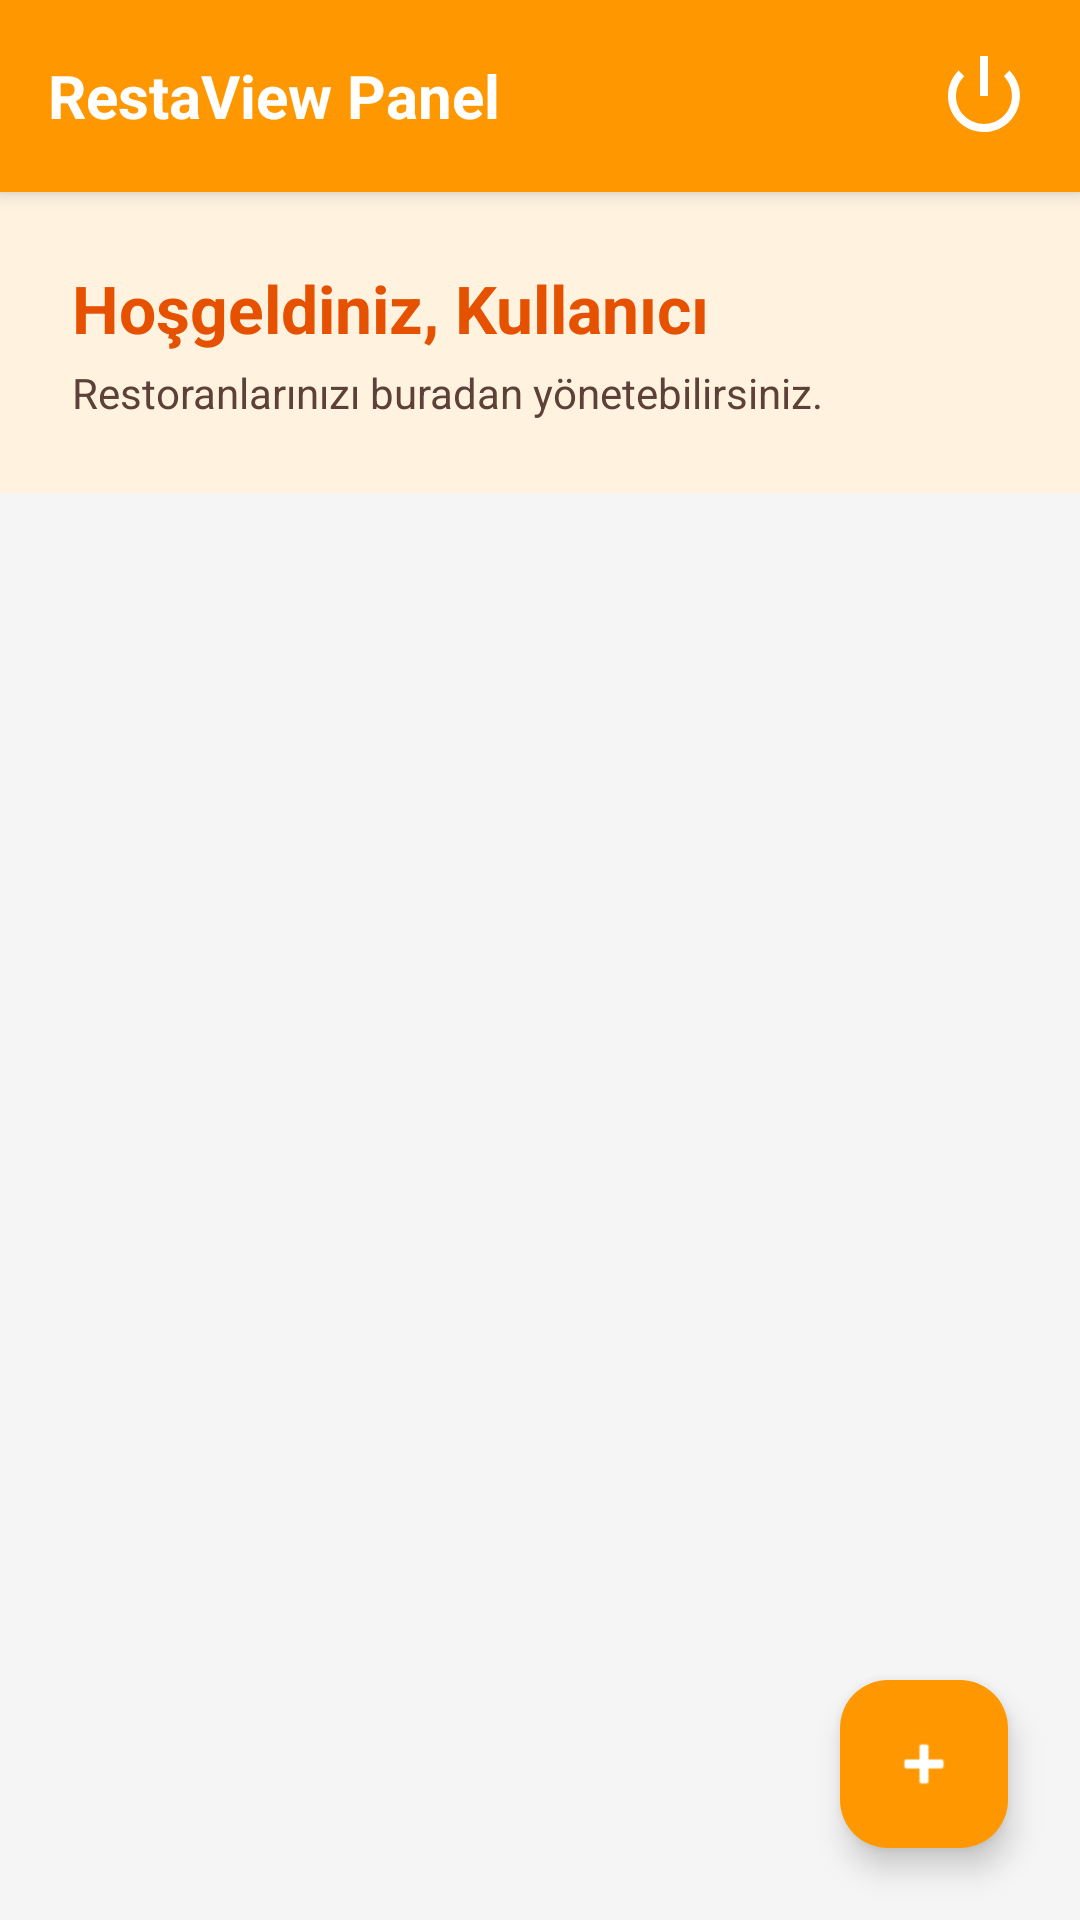

Named icons in this screenshot (1080px x 1920px) and their centers, [x,y]:
Yeni Restoran Ekle: [924,1764]
Çıkış Yap: [984,94]
